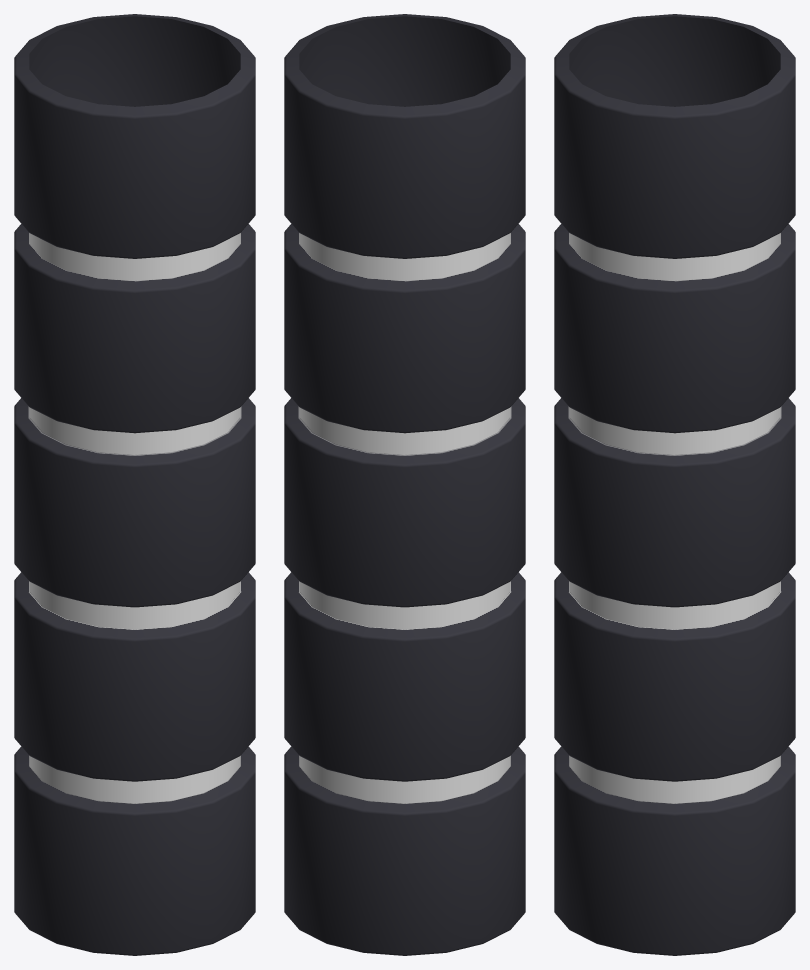
Rendered from Column08.FBX.
The picture shows the model from 3 angles, left to right: view 1: azimuth 30°, elevation 25°; view 2: azimuth 150°, elevation 25°; view 3: azimuth 270°, elevation 25°; orthographic projection.
Visible parts, largest first — view 1: Column08; view 2: Column08; view 3: Column08.
Part boxes in pixels (<box>): Column08: <box>14,14,255,955</box>; Column08: <box>284,14,525,955</box>; Column08: <box>554,14,795,955</box>.
Bounding box in the file's own units: 92 × 351 × 90.6.
